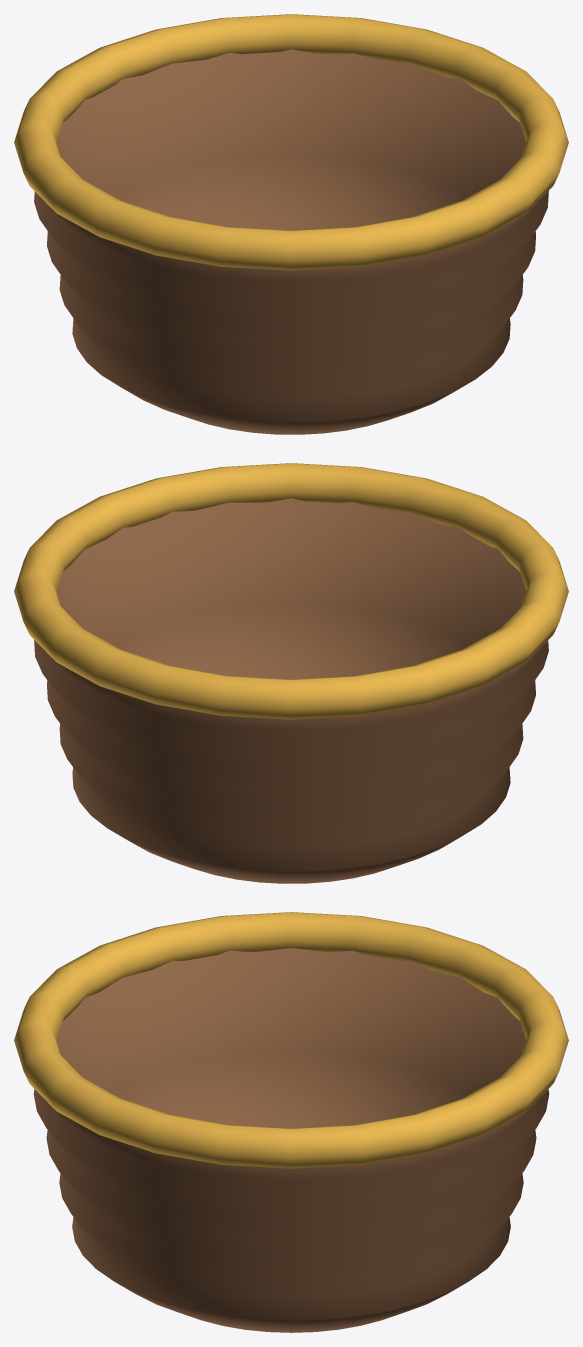
Rendered from harvester-basket.glb.
3 views of the same model, one above another, from view 1: azimuth 30°, elevation 25°; view 2: azimuth 150°, elevation 25°; view 3: azimuth 270°, elevation 25° (orthographic).
Parts seen in each view (by area): view 1: harvester-basket; view 2: harvester-basket; view 3: harvester-basket.
Part boxes in pixels (box(x1,y1,x2,y2)): harvester-basket: box(14, 14, 568, 434); harvester-basket: box(14, 463, 568, 883); harvester-basket: box(14, 912, 568, 1332).
Bounding box in the file's own units: 0.364 × 0.179 × 0.364.
